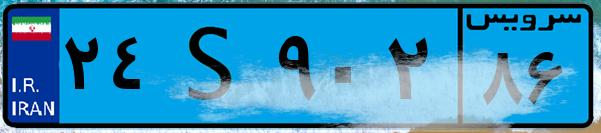0: (330, 28, 385, 110)
2: (385, 28, 445, 110), (57, 26, 110, 100)
4: (110, 28, 158, 98)
6: (525, 38, 570, 115)
8: (475, 38, 525, 113)
9: (270, 28, 330, 110)
S: (158, 12, 270, 120)
